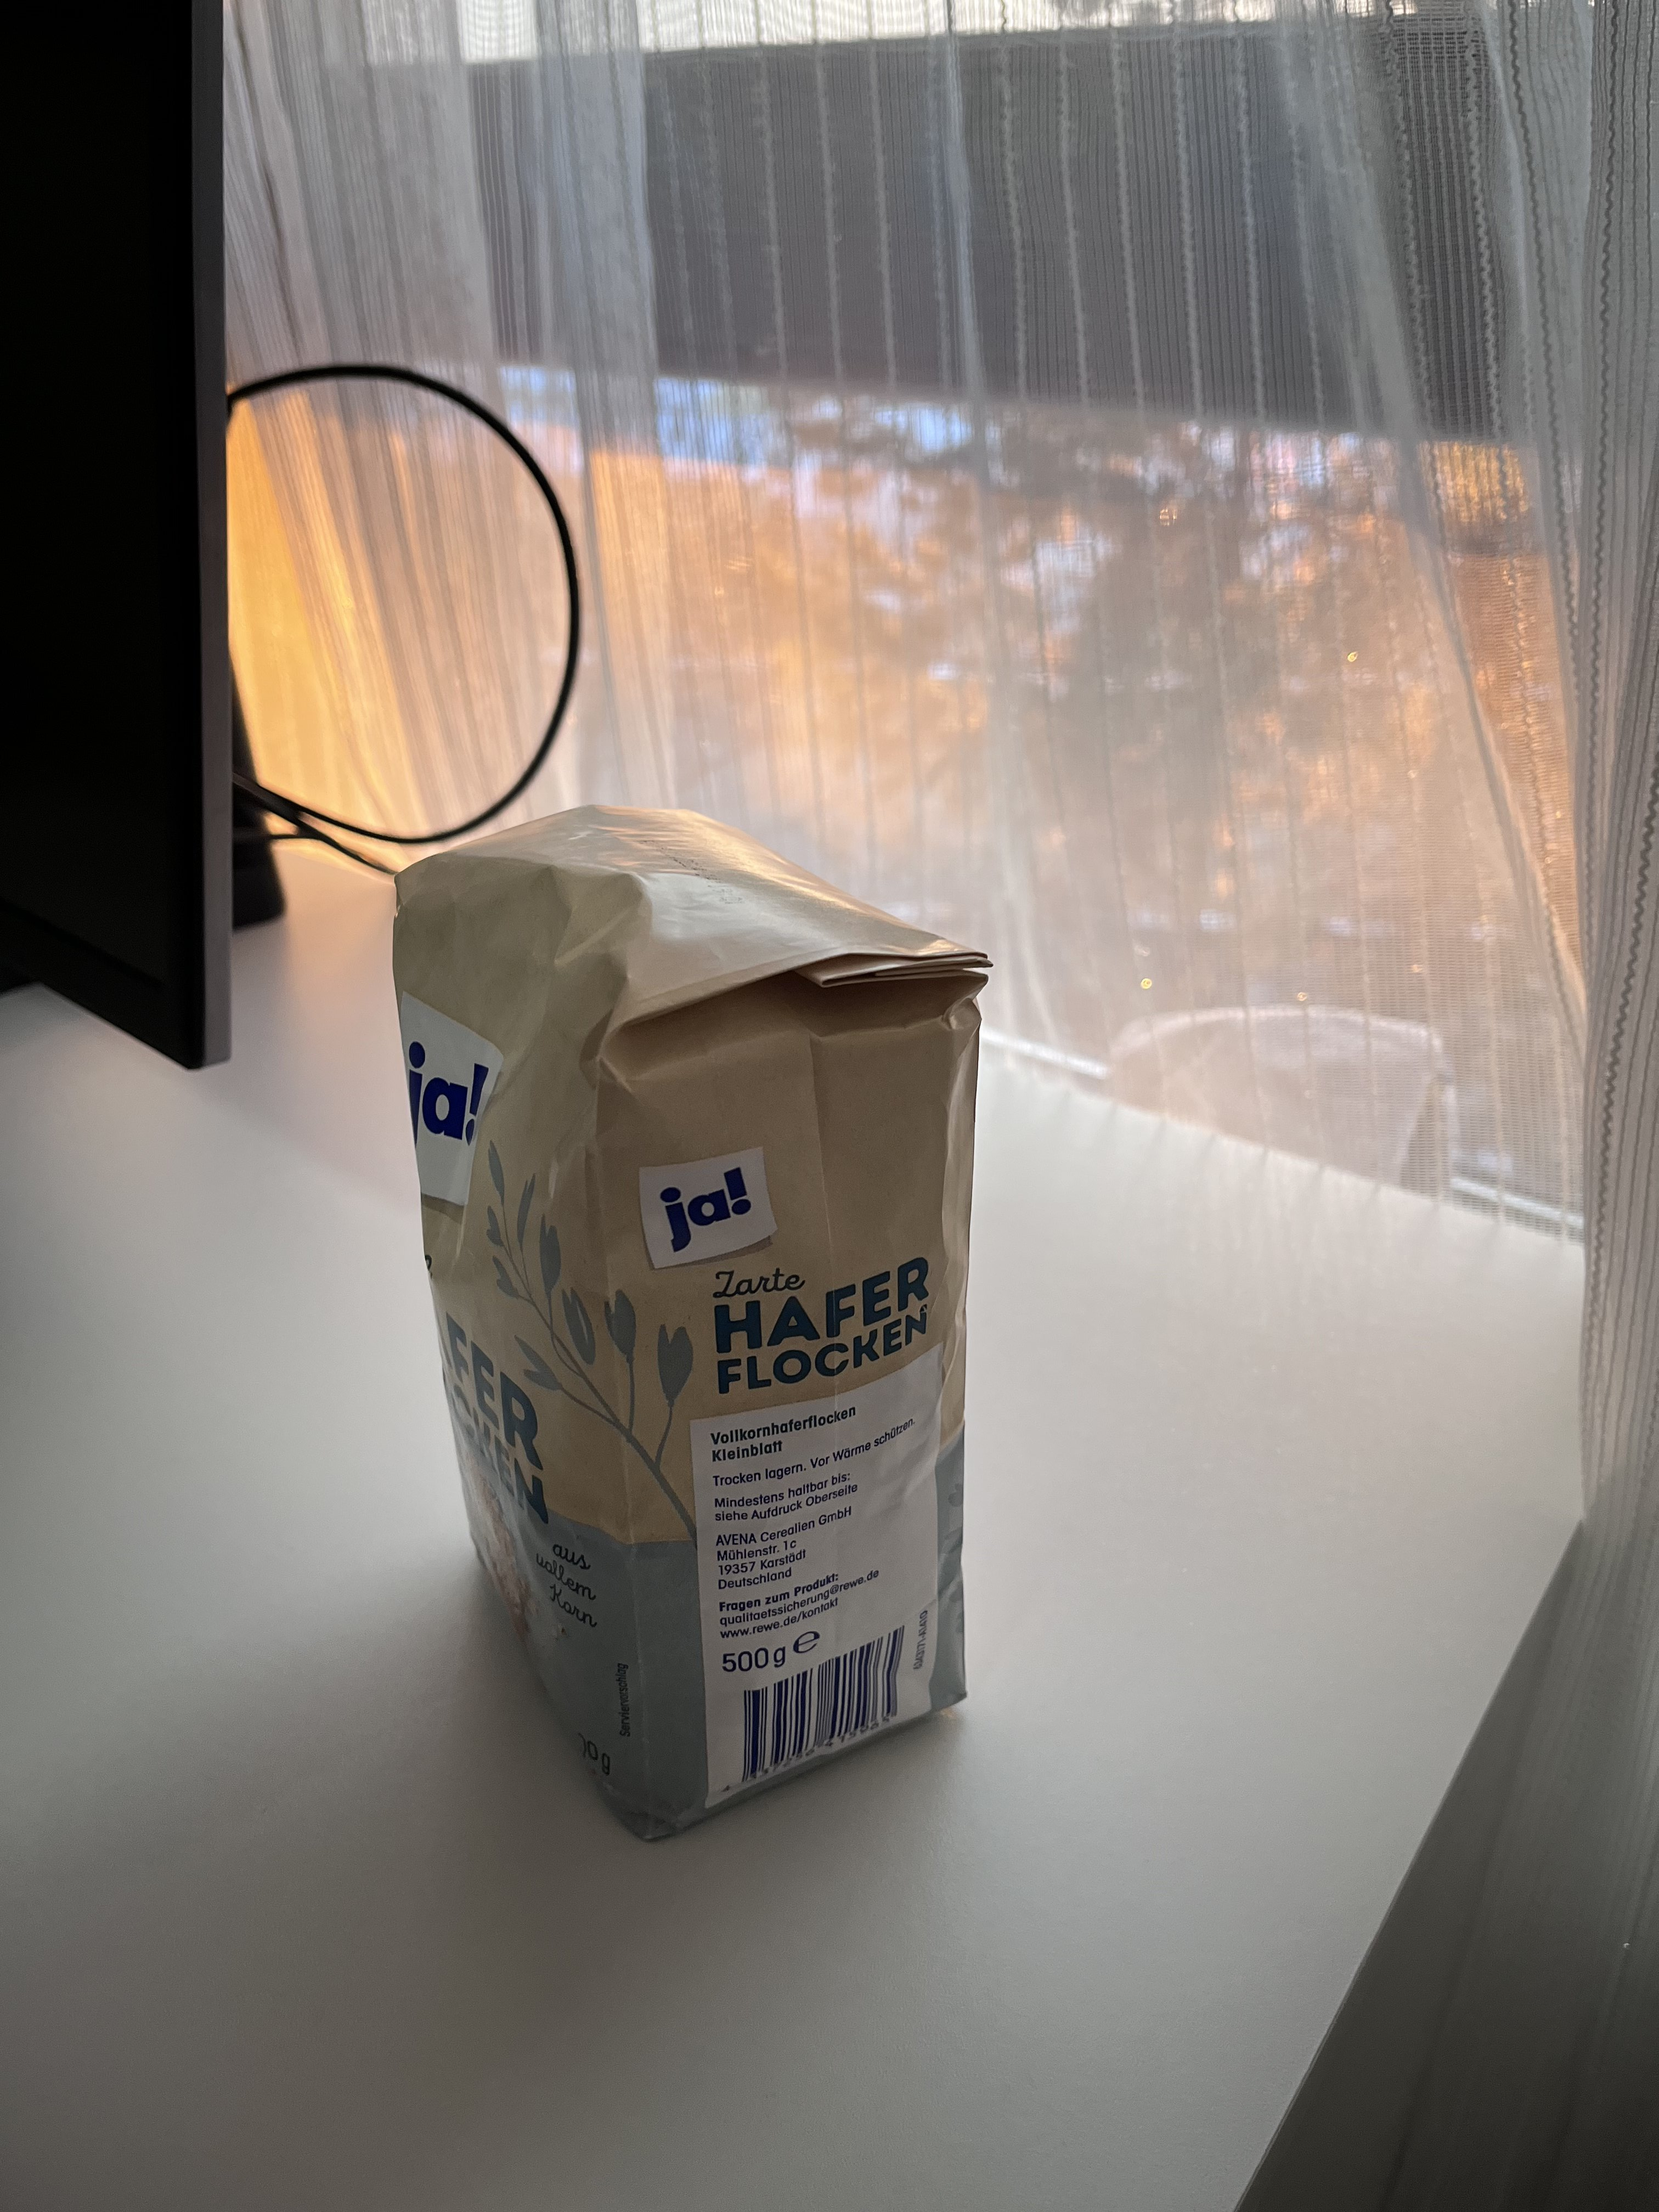haferflocken_ja: (390, 801, 993, 1839)
